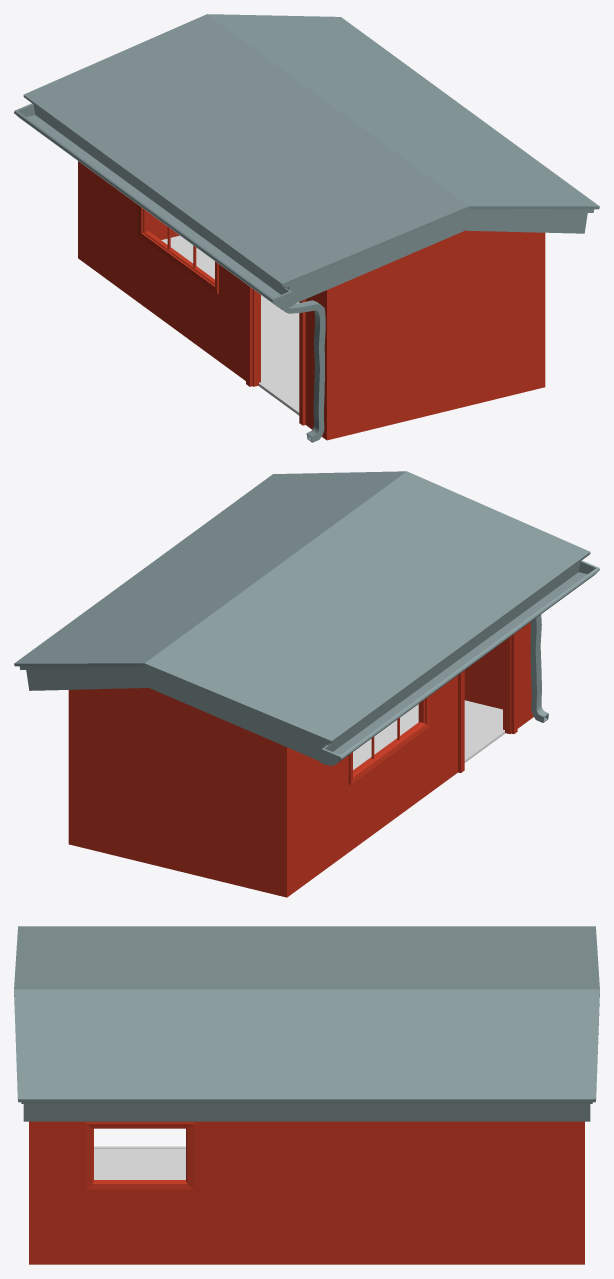
Rendered from House.fbx.
3 views of the same model, one above another, from view 1: azimuth 30°, elevation 25°; view 2: azimuth 150°, elevation 25°; view 3: azimuth 270°, elevation 25° (orthographic). The views are drawn at different scales.
Parts seen in each view (by area): view 1: Roof, Walls, Floor; view 2: Roof, Walls, Floor; view 3: Roof, Walls, Floor.
Part boxes in pixels (x1,y1,x2,y2): Roof: (14,14,599,442); Walls: (78,161,545,440); Floor: (161,235,299,415); Roof: (14,471,599,765); Walls: (68,622,533,897); Floor: (353,700,505,769); Roof: (14,926,599,1121); Walls: (29,1121,584,1264); Floor: (94,1146,185,1179).
Bounding box in the file's own units: 1229 × 742 × 1707.
